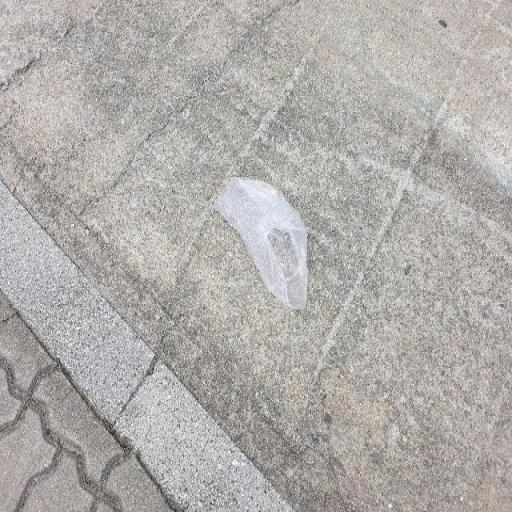plastic-bag: (208, 174, 304, 314)
